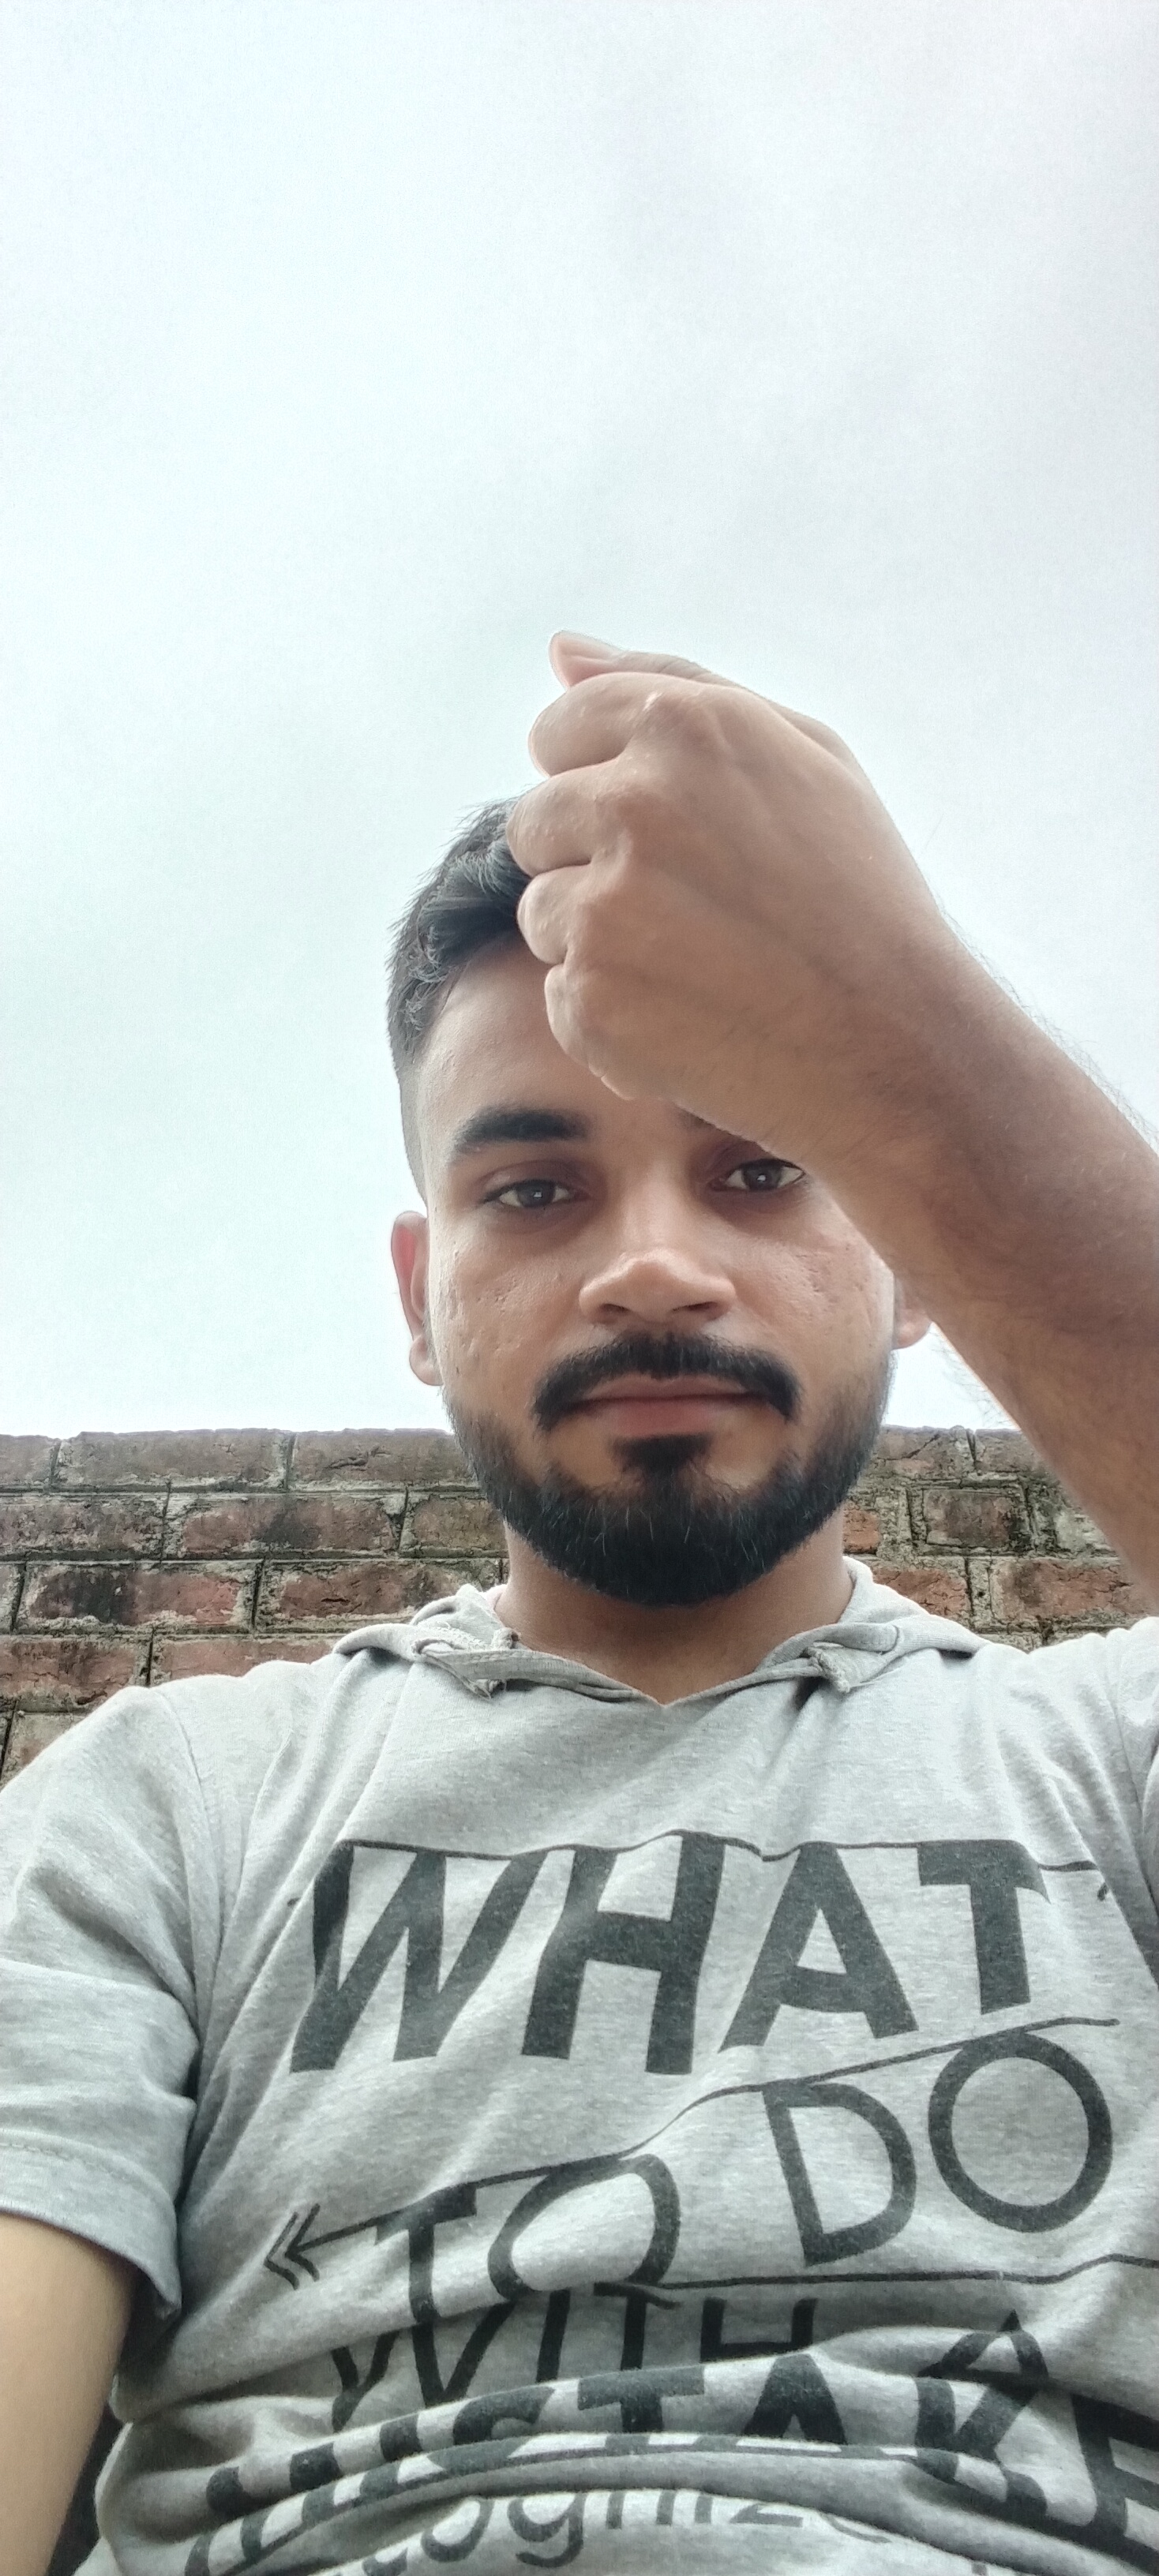Sorry: (513, 608, 926, 1160)
